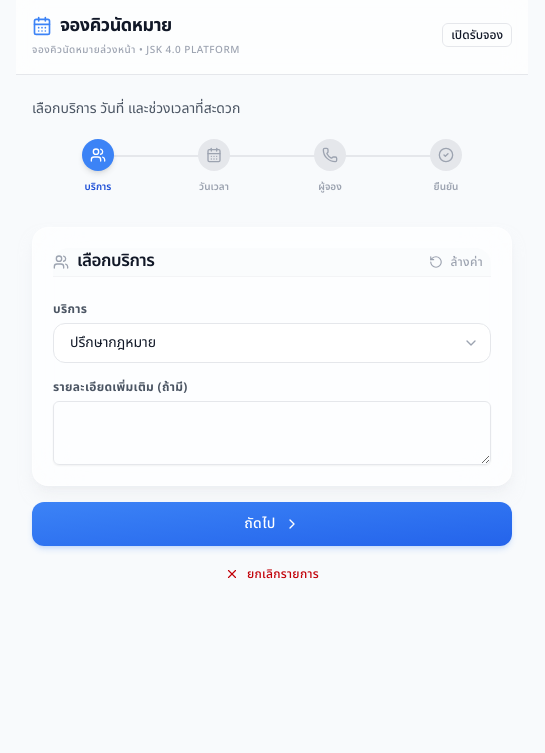
date selection › preselects the nearest day and loads its slots without another tap
Select "ปรึกษากฎหมาย" in the dropdown named "เลือกบริการ": (272, 343) [53,323,491,363]
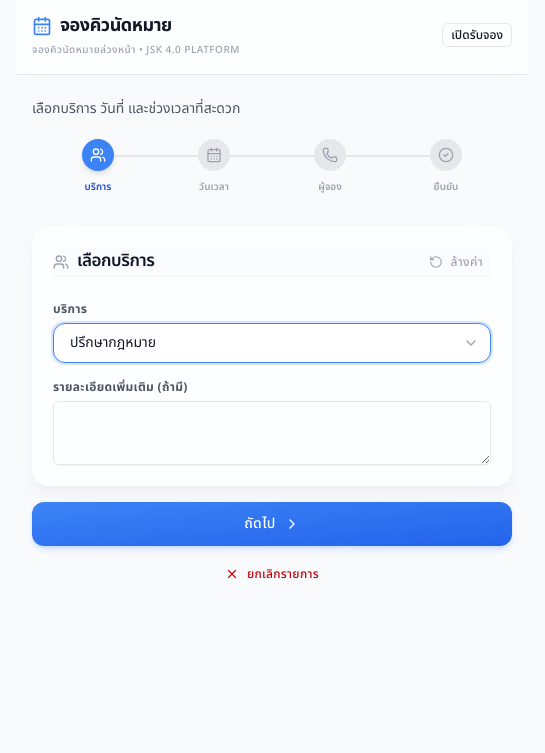
Click the button "ถัดไป": (272, 524) [32,502,512,546]
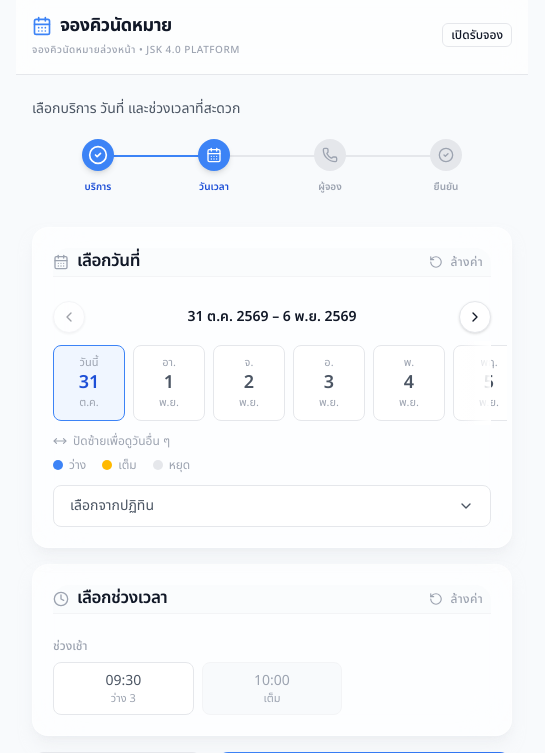
Expected: the text "ช่วงเช้า" is shown, [53,637,88,655]
